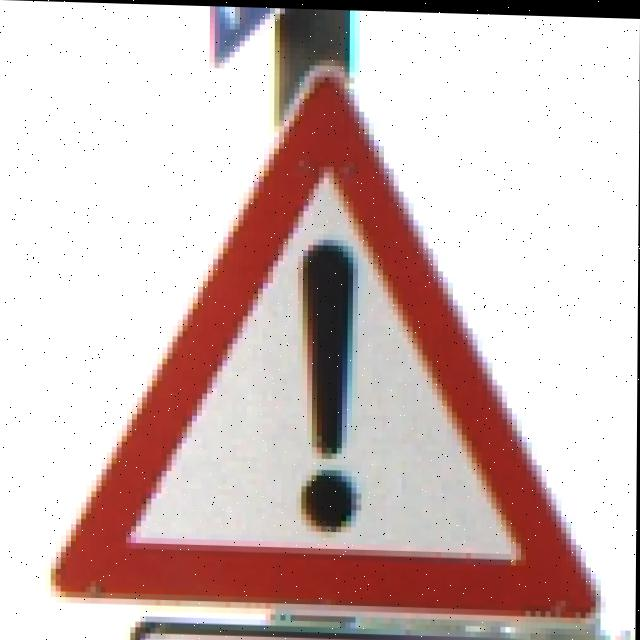warning: (51, 64, 591, 609)
